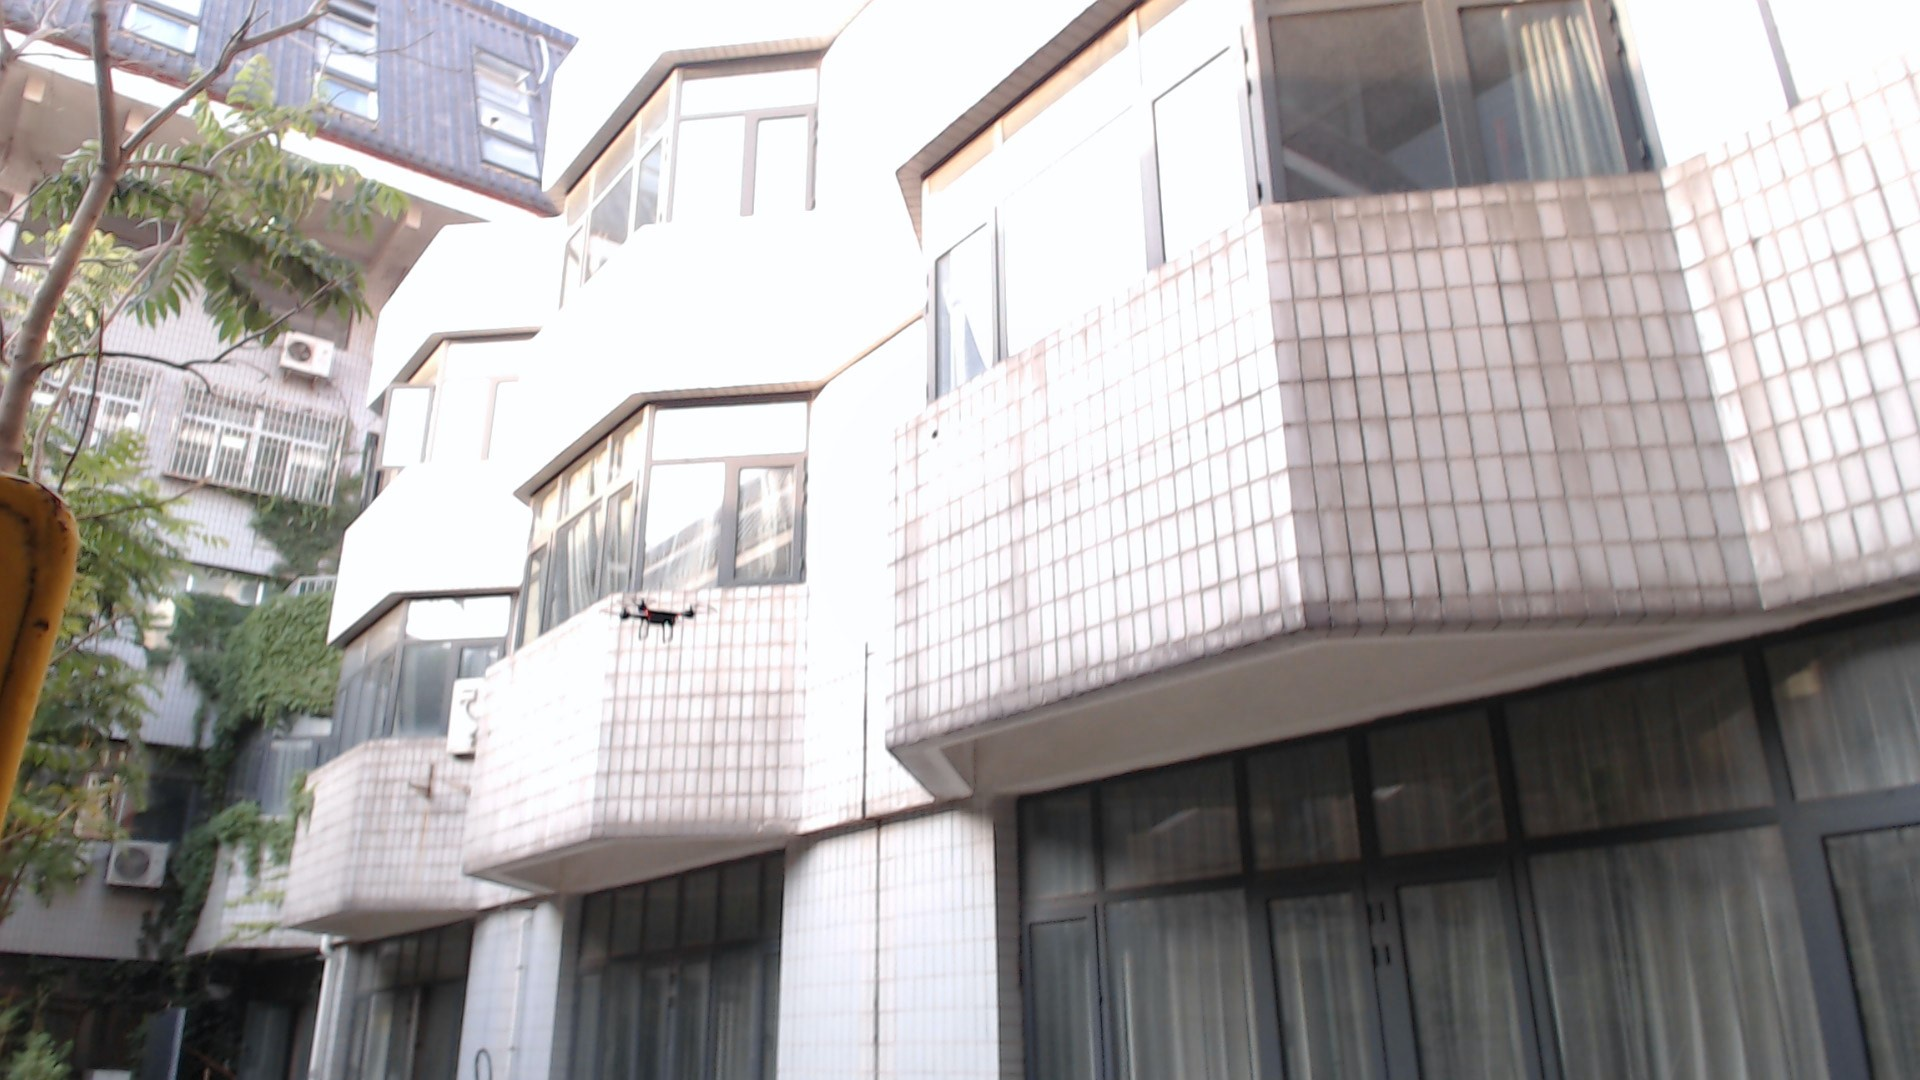drone: (588, 564, 738, 661)
